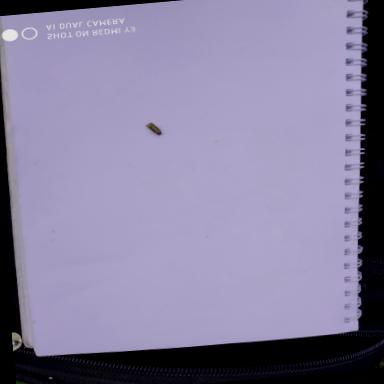pbw: (146, 122, 162, 137)
